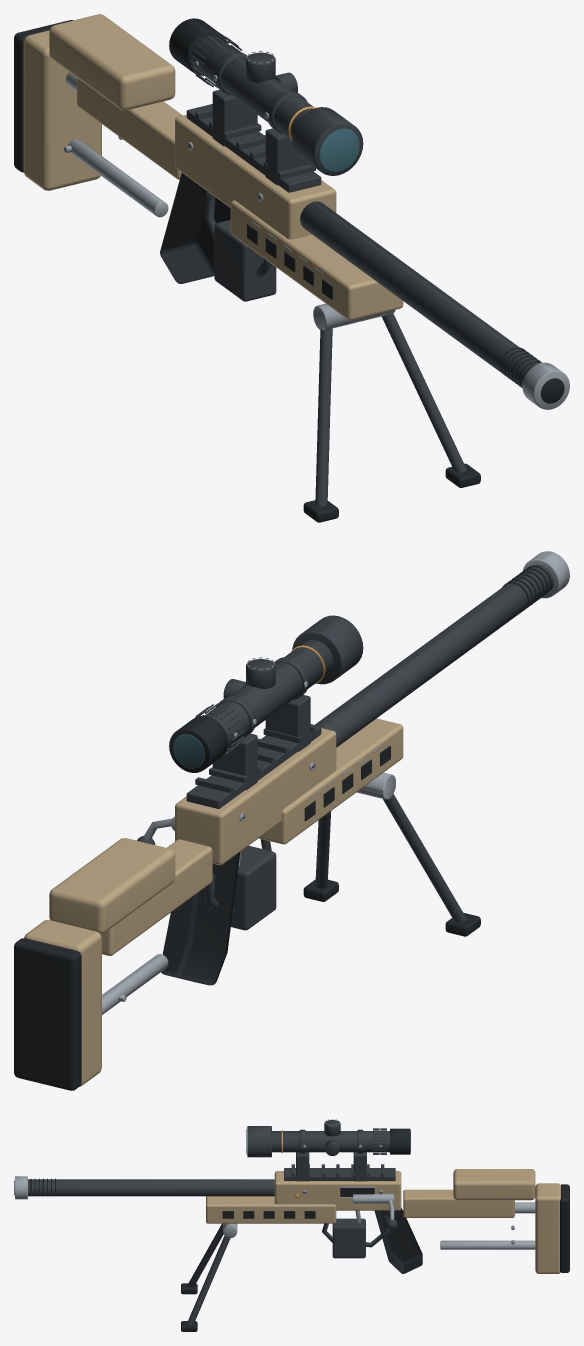
The model's file is ks-rifle-final.glb.
3 renders of one model, top to bottom at view 1: azimuth 30°, elevation 25°; view 2: azimuth 150°, elevation 25°; view 3: azimuth 270°, elevation 25°, orthographic. The views are drawn at different scales.
Parts seen in each view (by area): view 1: static_batch_Desert_sand_enamel, static_batch_Graphite, static_batch_Soft_matte_contact_pads, static_batch_Satin_stainless_details, scope_glass_front; view 2: static_batch_Desert_sand_enamel, static_batch_Graphite, static_batch_Soft_matte_contact_pads, static_batch_Satin_stainless_details, scope_glass_rear; view 3: static_batch_Desert_sand_enamel, static_batch_Graphite, static_batch_Soft_matte_contact_pads, static_batch_Satin_stainless_details, bolt.
Part boxes in pixels (x1,y1,x2,y2): static_batch_Desert_sand_enamel: (23,14,403,320); static_batch_Graphite: (186,33,539,506); static_batch_Soft_matte_contact_pads: (14,18,564,522); static_batch_Satin_stainless_details: (64,51,569,409); scope_glass_front: (319,128,359,171); static_batch_Desert_sand_enamel: (24,718,403,1086); static_batch_Graphite: (186,564,553,930); static_batch_Soft_matte_contact_pads: (14,565,551,1090); static_batch_Satin_stainless_details: (102,551,569,1014); scope_glass_rear: (173,734,204,768); static_batch_Desert_sand_enamel: (206,1169,560,1273); static_batch_Graphite: (28,1120,395,1324); static_batch_Soft_matte_contact_pads: (14,1128,569,1331); static_batch_Satin_stainless_details: (15,1119,535,1249); bolt: (353,1194,393,1203).
Bounding box in the file's own units: 0.278 × 0.5585 × 1.49.
